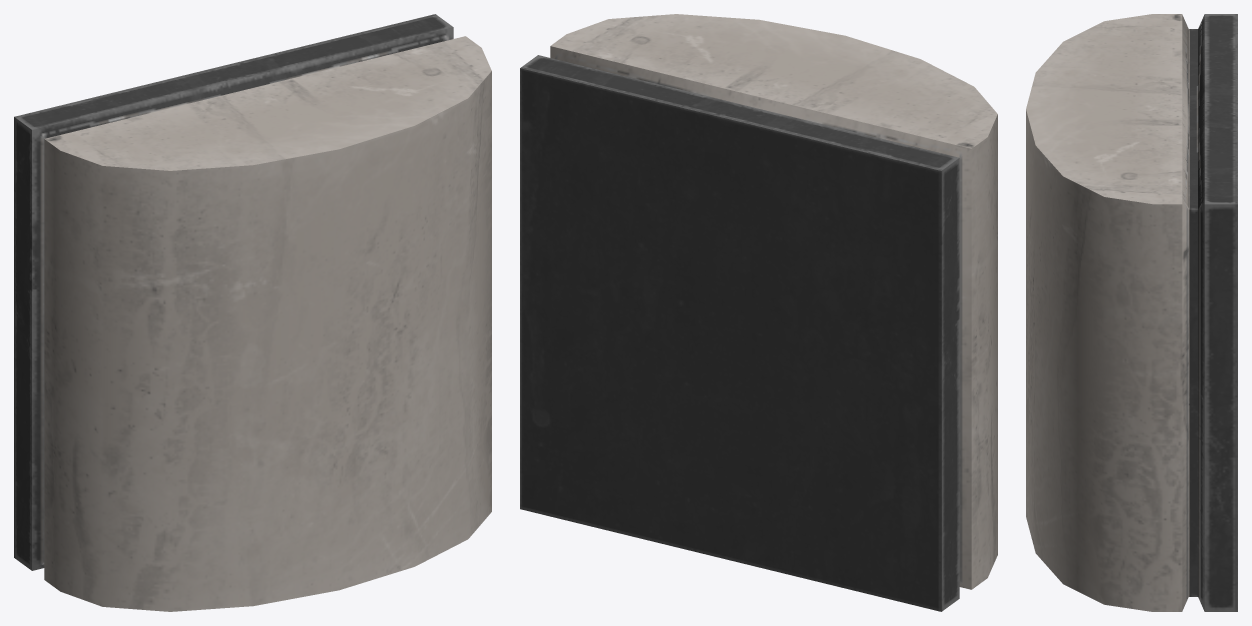
The model's file is wallLightD.fbx.
3 views of the same model, side by side, from view 1: azimuth 30°, elevation 25°; view 2: azimuth 150°, elevation 25°; view 3: azimuth 270°, elevation 25° (orthographic). The views are drawn at different scales.
Parts seen in each view (by area): view 1: wallLightD; view 2: wallLightD; view 3: wallLightD.
Boxes of the visible parts, left/top/right/bottom form: wallLightD: left=14, top=14, right=491, bottom=611; wallLightD: left=520, top=14, right=997, bottom=611; wallLightD: left=1026, top=14, right=1237, bottom=611.
Bounding box in the file's own units: 20 × 20 × 9.42.
1 material, 1 textured.
